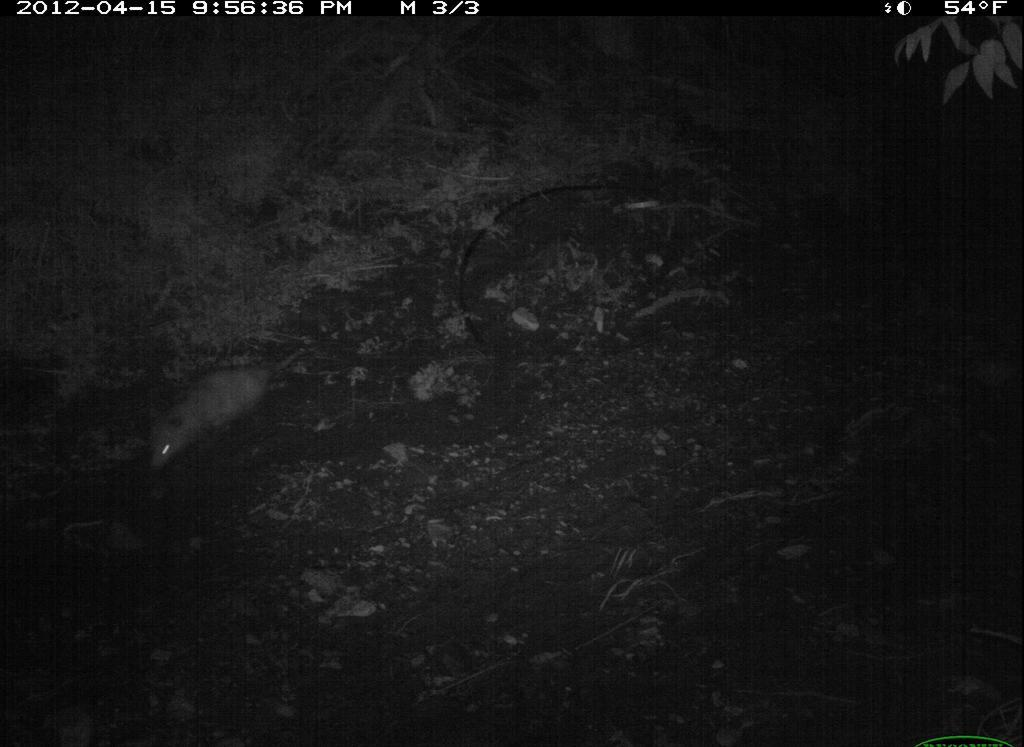opossum: (140, 345, 322, 469)
